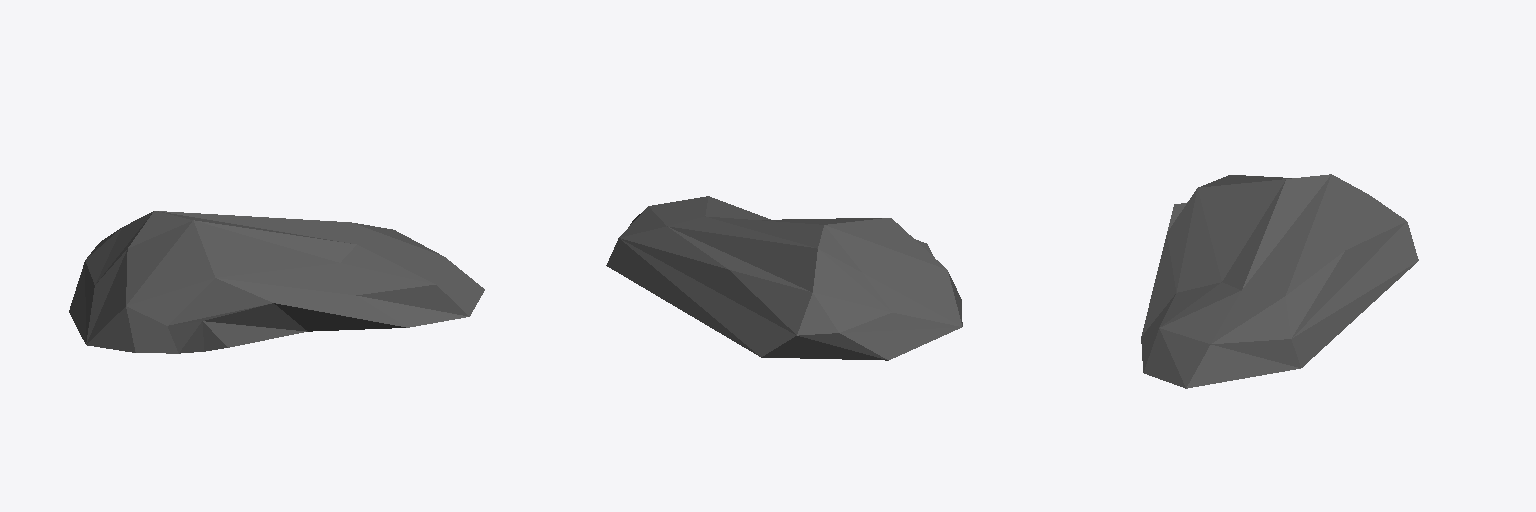
File: vegetation4.obj
The picture shows the model from 3 angles: view 1: azimuth 30°, elevation 25°; view 2: azimuth 150°, elevation 25°; view 3: azimuth 270°, elevation 25°; orthographic projection.
Parts seen in each view (by area): view 1: vegetation3; view 2: vegetation3; view 3: vegetation3.
Boxes of the visible parts, x1,y1,x2,y2 form: vegetation3: [69, 211, 484, 353]; vegetation3: [606, 196, 962, 360]; vegetation3: [1141, 174, 1418, 388].
Bounding box in the file's own units: 60.42 × 15.17 × 39.86.